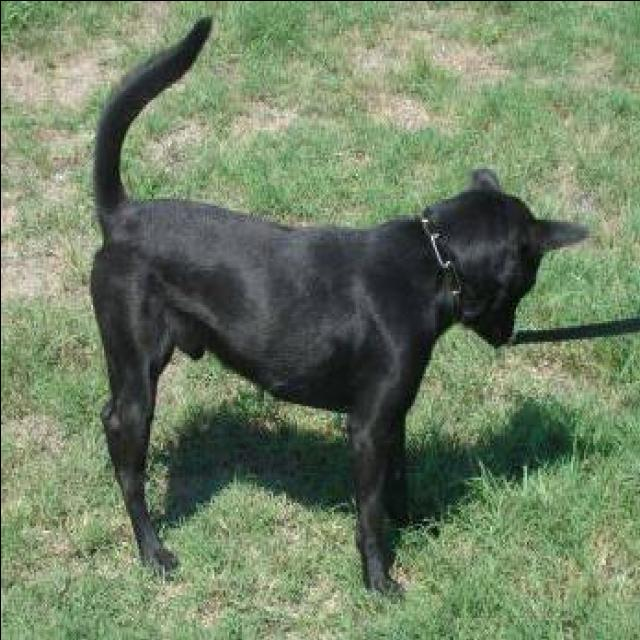dog: (52, 12, 582, 602)
